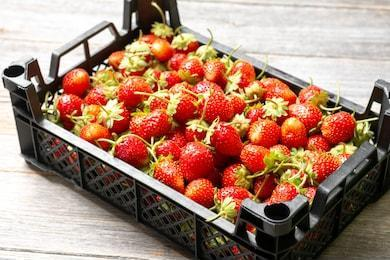Fresa: (109, 132, 152, 172), (150, 155, 187, 197), (127, 107, 173, 140), (209, 120, 244, 163), (320, 108, 358, 147), (53, 91, 86, 126), (247, 116, 280, 148), (60, 66, 93, 97), (180, 53, 205, 84), (201, 57, 228, 84)
